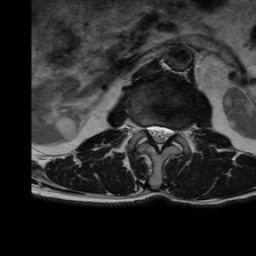CCS_normal: (154, 121, 165, 154)
LFS_severe_stenosis: (174, 124, 182, 143)
LLS_normal: (165, 124, 174, 142)
RFS_severe_stenosis: (138, 119, 146, 141)
RLS_normal: (146, 121, 154, 143)
